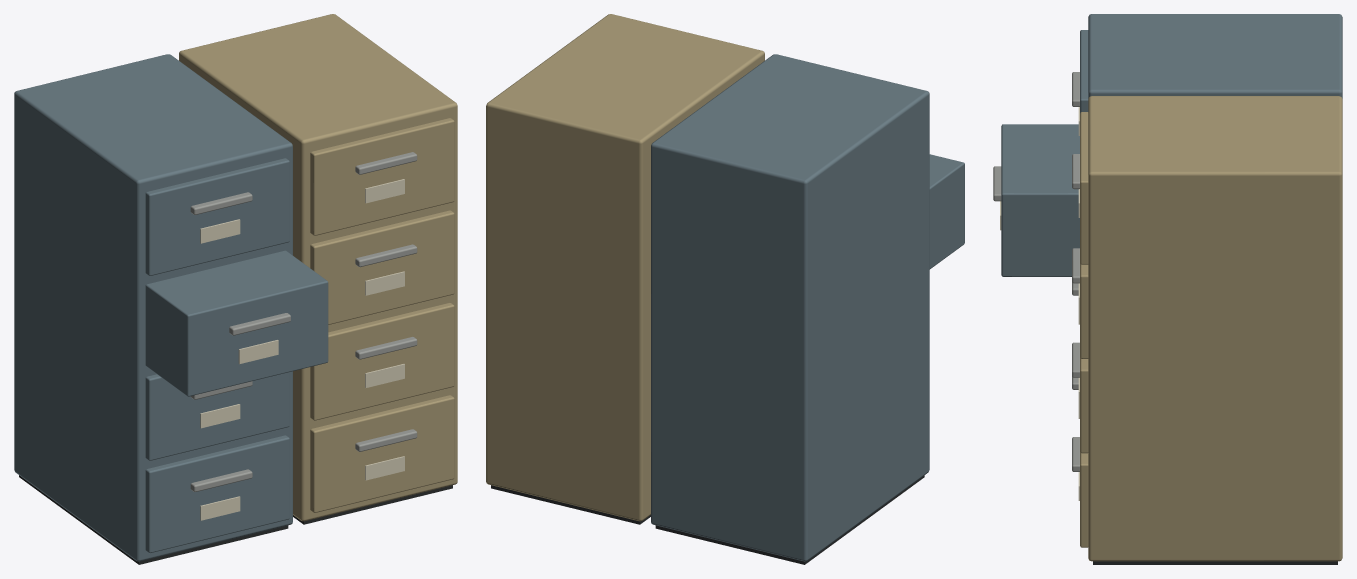
Rendered from filing-cabinet.glb.
3 views of the same model, side by side, from view 1: azimuth 30°, elevation 25°; view 2: azimuth 150°, elevation 25°; view 3: azimuth 270°, elevation 25° (orthographic). The views are drawn at different scales.
Visible parts, largest first — view 1: paint-slate, paint-sand, paint-ivory, steel, steel-dark; view 2: paint-slate, paint-sand, steel-dark; view 3: paint-sand, paint-slate, steel, steel-dark.
Boxes of the visible parts, box(x1,y1,x2,y2) form: paint-slate: box(14, 54, 328, 561); paint-sand: box(179, 14, 457, 521); paint-ivory: box(200, 179, 404, 520); steel: box(190, 152, 417, 491); steel-dark: box(19, 475, 452, 564); paint-slate: box(651, 54, 964, 561); paint-sand: box(486, 14, 764, 521); steel-dark: box(491, 475, 924, 564); paint-sand: box(1080, 96, 1342, 561); paint-slate: box(1001, 14, 1342, 276); steel: box(993, 72, 1079, 471); steel-dark: box(1093, 561, 1337, 564).
Bounding box in the file's own units: 1.64 × 1.88 × 1.51.
